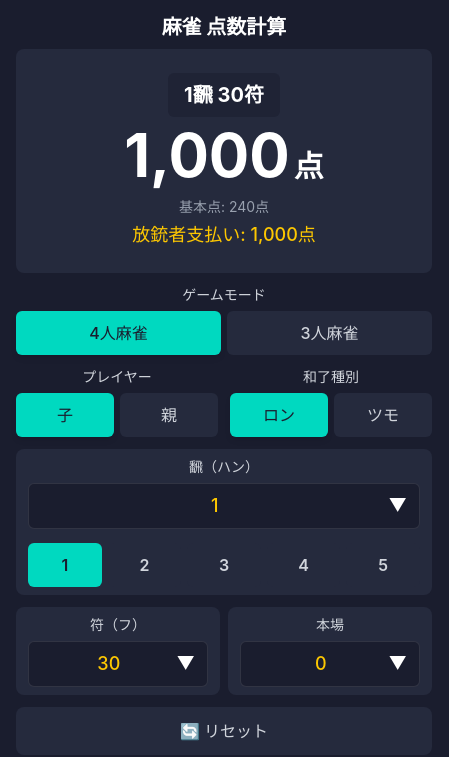
Test: 飜数を変更して点数が更新される
This screenshot has width=449, height=757.
Expected: the text "放銃者支払い: 1,000点" is shown, x1=132 y1=224 x2=316 y2=245
2飜ボタンをクリック
Click the button "2": (144, 565) x1=108 y1=543 x2=181 y2=587
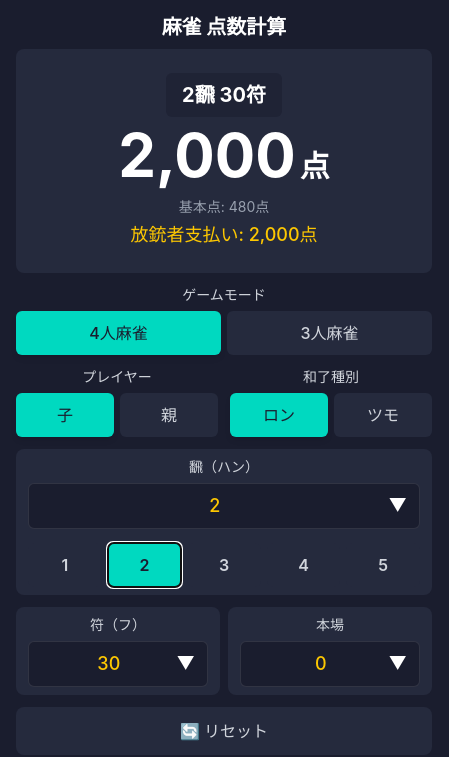
Now the text "放銃者支払い: 2,000点" is shown, box x1=130 y1=224 x2=318 y2=245
3飜ボタンをクリック
Click the button "3": (224, 565) x1=187 y1=543 x2=261 y2=587
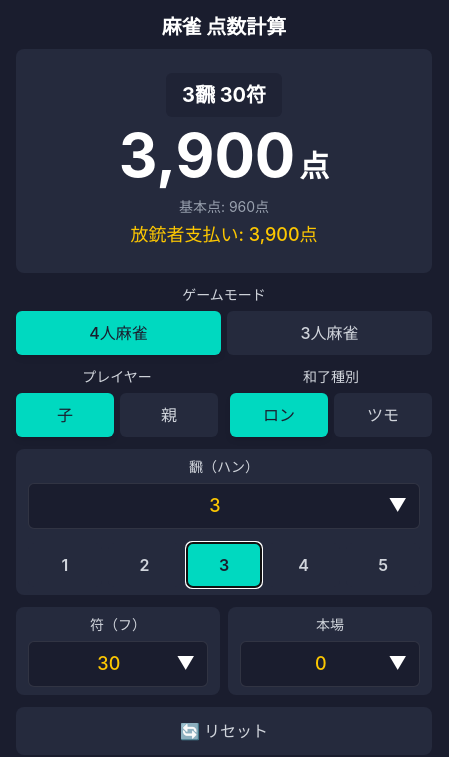
Now the text "放銃者支払い: 3,900点" is shown, box x1=130 y1=224 x2=318 y2=245
